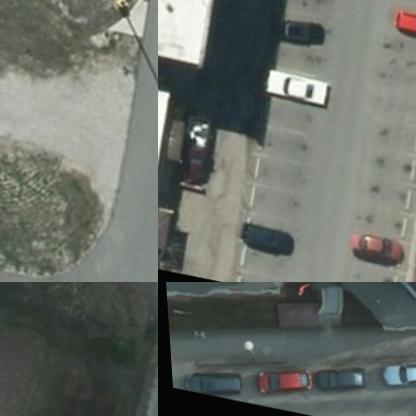car: (170, 117, 218, 188), (255, 69, 331, 111), (230, 221, 294, 264), (342, 232, 402, 274), (252, 366, 310, 402), (272, 12, 326, 49), (182, 368, 241, 401), (312, 368, 366, 400), (374, 357, 415, 398), (387, 10, 415, 46)
